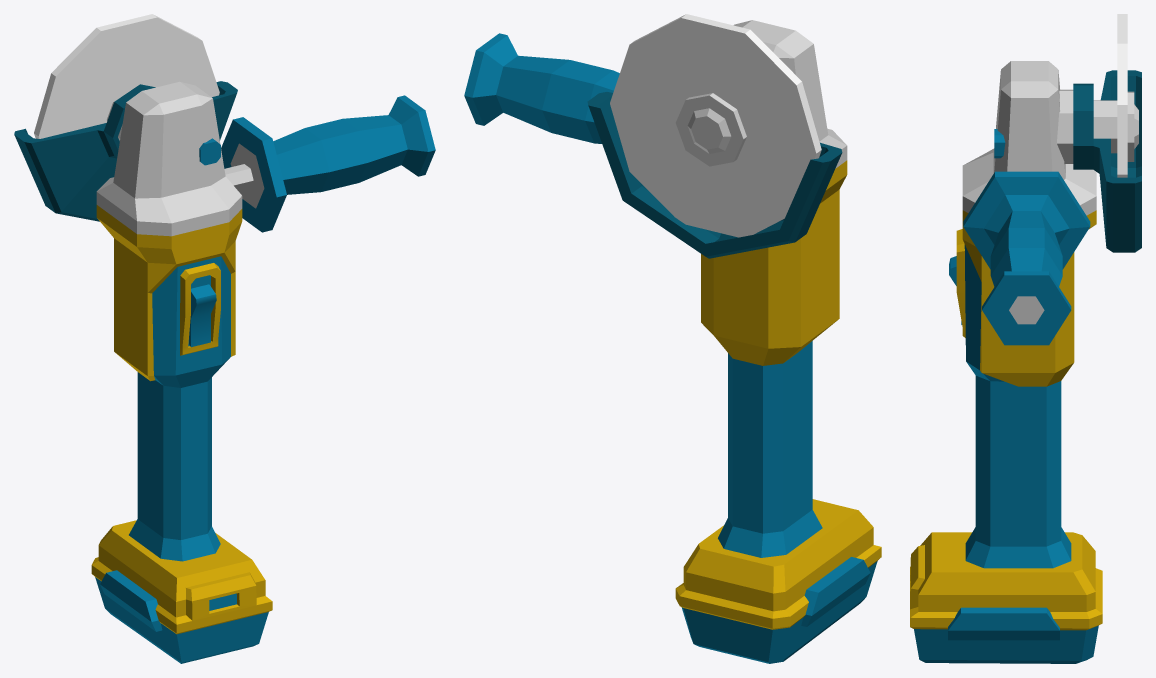
Rendered from SM_Tool_Angle_Grinder_01.fbx.
3 renders of one model, left to right at view 1: azimuth 30°, elevation 25°; view 2: azimuth 150°, elevation 25°; view 3: azimuth 270°, elevation 25°, orthographic. The views are drawn at different scales.
Parts seen in each view (by area): view 1: SM_Tool_Angle_Grinder_01, SM_Tool_Angle_Grinder_01_Disk, SM_Tool_Angle_Grinder_01_Battery, SM_Tool_Angle_Grinder_01_Trigger; view 2: SM_Tool_Angle_Grinder_01, SM_Tool_Angle_Grinder_01_Disk, SM_Tool_Angle_Grinder_01_Battery; view 3: SM_Tool_Angle_Grinder_01, SM_Tool_Angle_Grinder_01_Battery, SM_Tool_Angle_Grinder_01_Disk.
Boxes of the visible parts, bbox=[...] form: SM_Tool_Angle_Grinder_01: bbox=[14, 81, 435, 617]; SM_Tool_Angle_Grinder_01_Disk: bbox=[34, 14, 219, 138]; SM_Tool_Angle_Grinder_01_Battery: bbox=[91, 557, 272, 663]; SM_Tool_Angle_Grinder_01_Trigger: bbox=[189, 284, 216, 347]; SM_Tool_Angle_Grinder_01: bbox=[464, 20, 873, 611]; SM_Tool_Angle_Grinder_01_Disk: bbox=[610, 14, 821, 237]; SM_Tool_Angle_Grinder_01_Battery: bbox=[675, 545, 881, 663]; SM_Tool_Angle_Grinder_01: bbox=[918, 61, 1141, 611]; SM_Tool_Angle_Grinder_01_Battery: bbox=[910, 545, 1102, 663]; SM_Tool_Angle_Grinder_01_Disk: bbox=[1117, 14, 1127, 177].
Bounding box in the file's own units: 39.55 × 60.96 × 20.81.
1 material, 1 textured.
